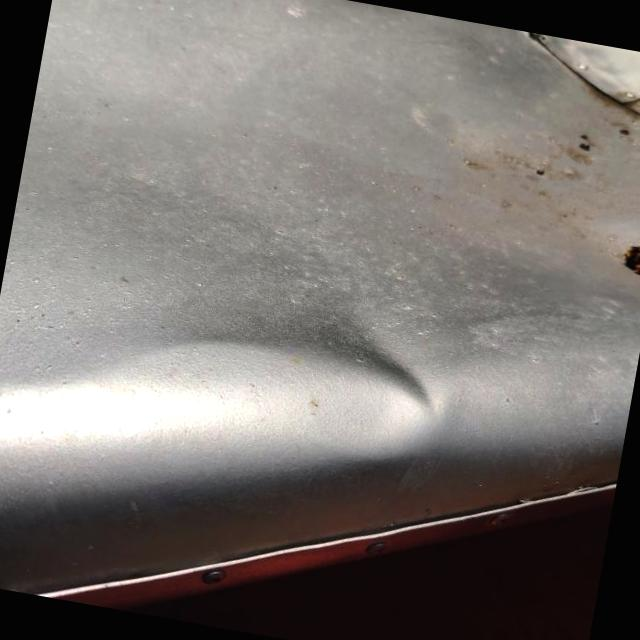dent: (280, 277, 476, 438)
